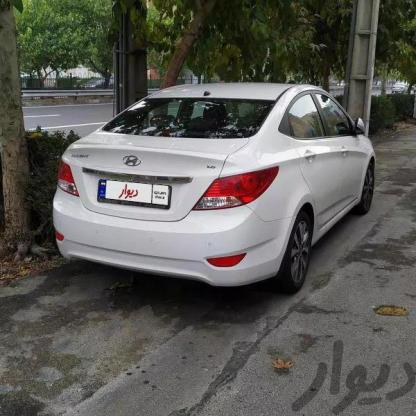Car: (53, 76, 378, 314)
